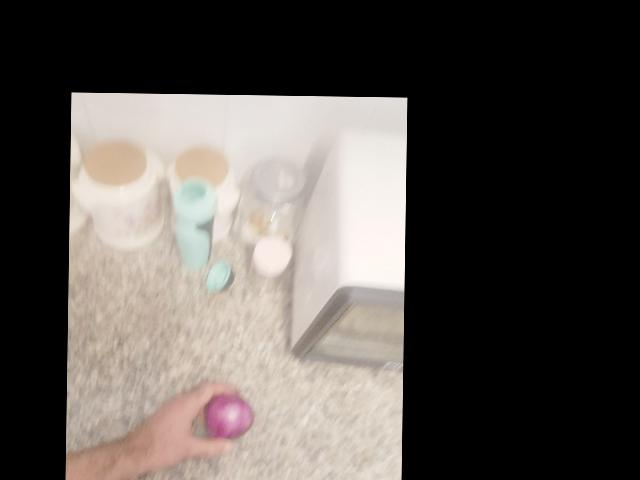onion: (189, 390, 256, 461)
